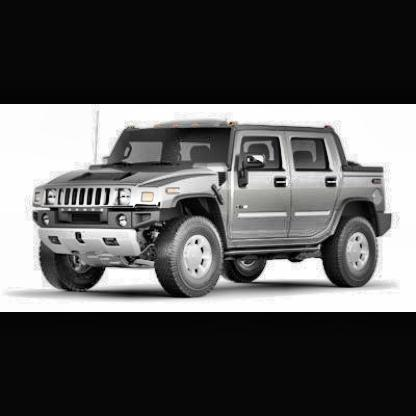HUMMER H2 SUT Crew Cab 2009: (33, 121, 393, 297)
